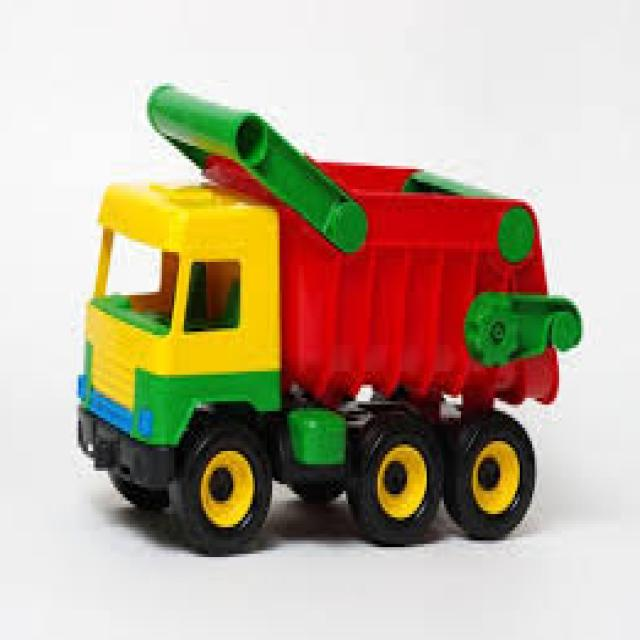Car: (76, 80, 584, 550)
